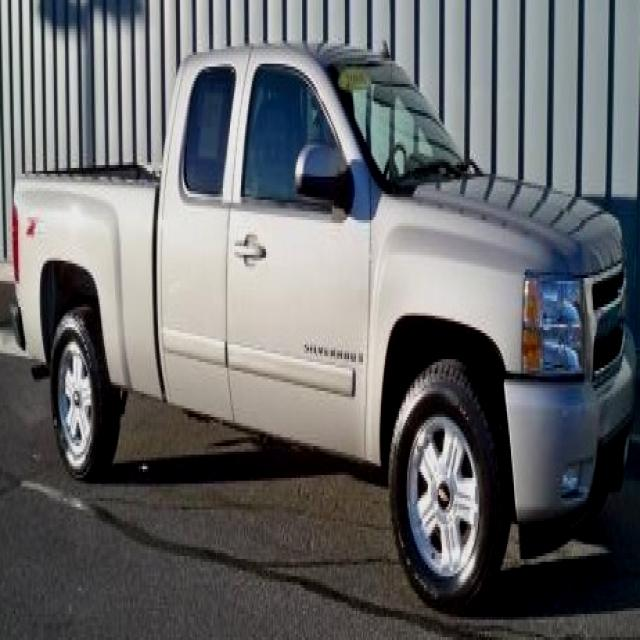CMT: (10, 47, 640, 550)
